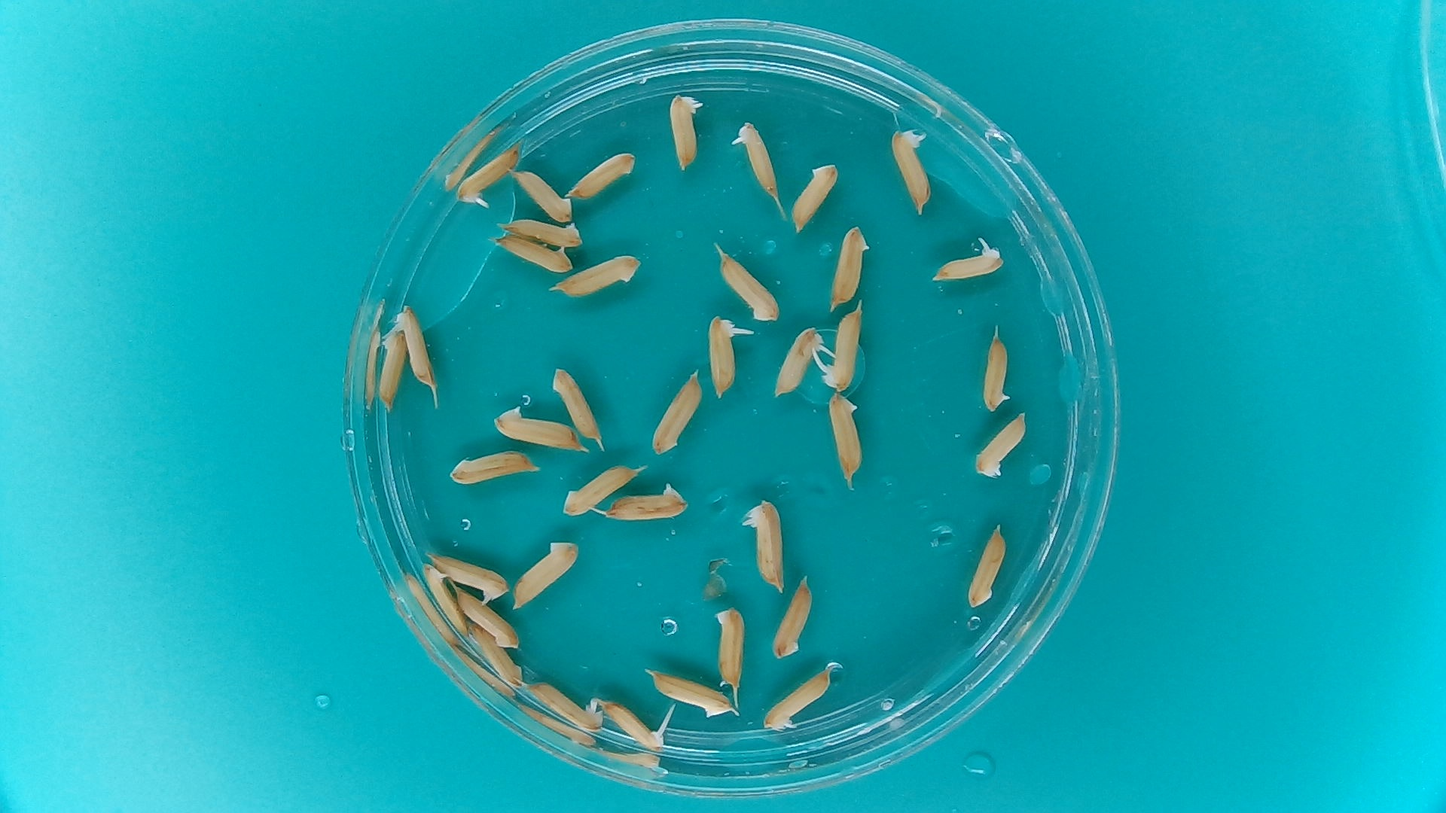no: (511, 539, 580, 609), (719, 247, 783, 321), (651, 368, 704, 455), (763, 668, 831, 734), (453, 586, 520, 649), (551, 365, 604, 443), (827, 392, 869, 490), (648, 671, 735, 718), (561, 465, 639, 517), (965, 520, 1009, 609), (467, 622, 524, 690), (974, 412, 1029, 482), (553, 255, 642, 298), (789, 162, 840, 236), (495, 404, 580, 448), (771, 576, 816, 659), (828, 226, 872, 309), (421, 562, 468, 636), (448, 449, 540, 486), (566, 151, 636, 199), (607, 483, 690, 523), (495, 233, 575, 274), (514, 170, 573, 223), (981, 321, 1013, 416), (714, 607, 749, 689), (498, 218, 584, 248), (378, 327, 407, 410)
yes: (523, 680, 604, 733), (432, 553, 511, 604), (599, 699, 674, 751), (821, 303, 865, 391), (746, 500, 786, 591), (456, 147, 522, 202), (771, 325, 821, 394), (735, 120, 779, 196), (396, 309, 435, 389), (930, 243, 1003, 285), (707, 315, 743, 400), (895, 132, 932, 209), (668, 91, 700, 171)
